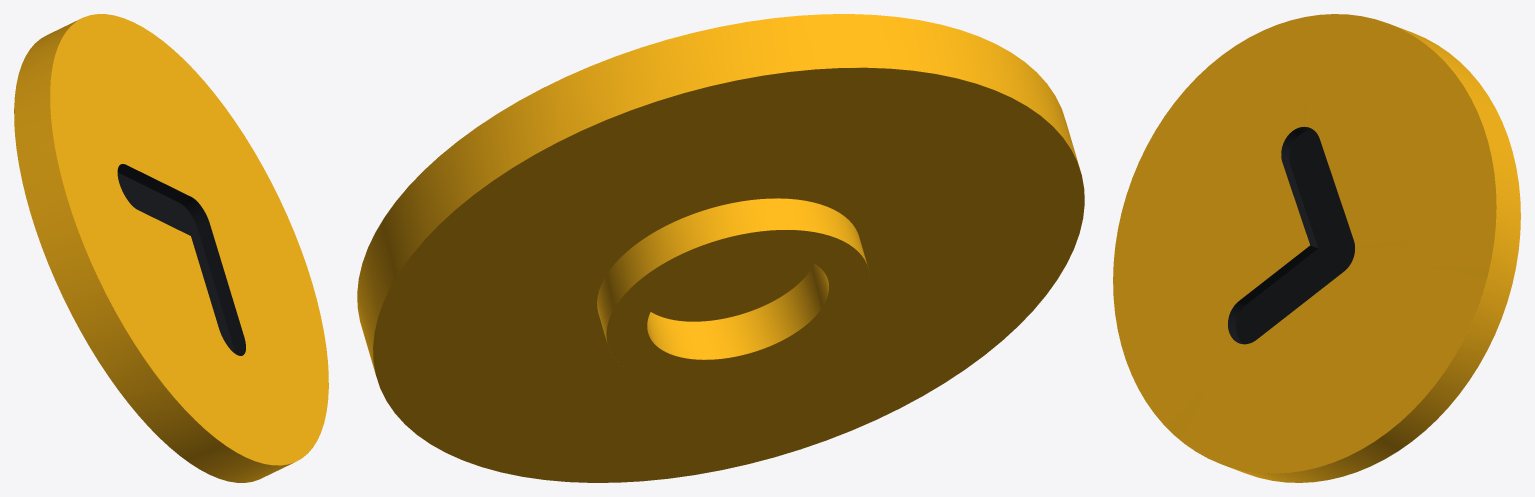
File: arrow-cap.glb
3 renders of one model, left to right at view 1: azimuth 30°, elevation 25°; view 2: azimuth 150°, elevation 25°; view 3: azimuth 270°, elevation 25°, orthographic. The views are drawn at different scales.
Parts seen in each view (by area): view 1: Bouton next; view 2: Bouton next; view 3: Bouton next.
Boxes of the visible parts, <box> form: Bouton next: <box>14,14,328,482</box>; Bouton next: <box>357,14,1084,482</box>; Bouton next: <box>1113,14,1520,482</box>.
Bounding box in the file's own units: 1.68 × 1.79 × 1.73.
